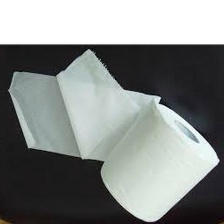tissue: (1, 45, 224, 224)
